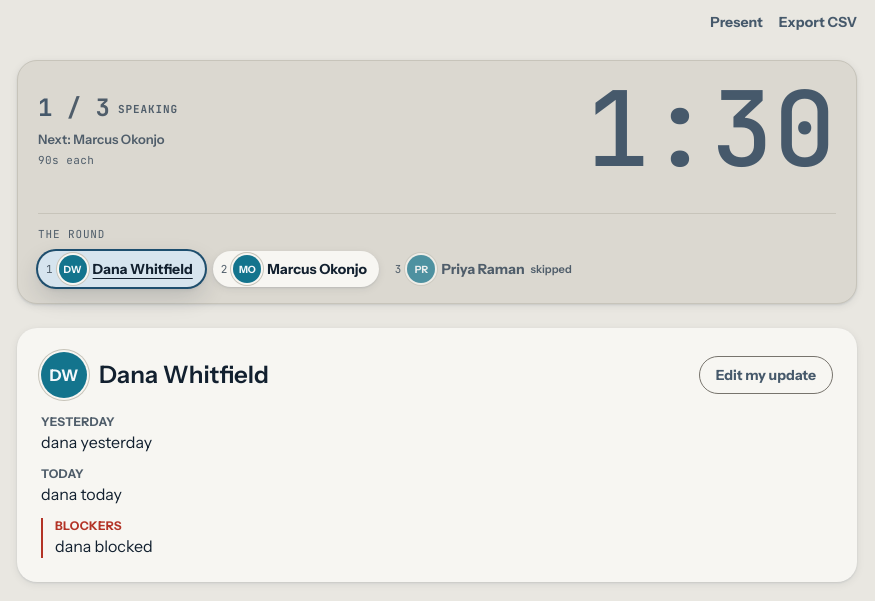
Test: StandupRoom re-reading entries › shows whoever you pick in the rail, not only the current speaker
The width and height of the screenshot is (875, 601).
Expected: the text "dana yesterday" is shown, [41,432,152,452]
Click the button "3 PR Priya Raman skipped". click: [485, 269]
box: [387,250,584,287]
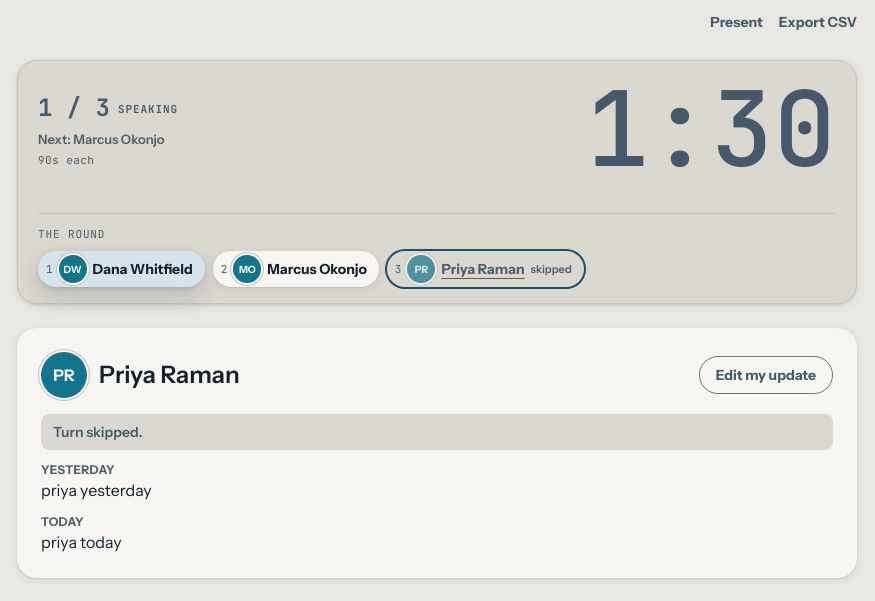
Now the text "priya yesterday" is shown, box [41,480,152,500]
Now the text "priya today" is shown, box [41,532,122,552]
Now the text "dana yesterday" is gone
